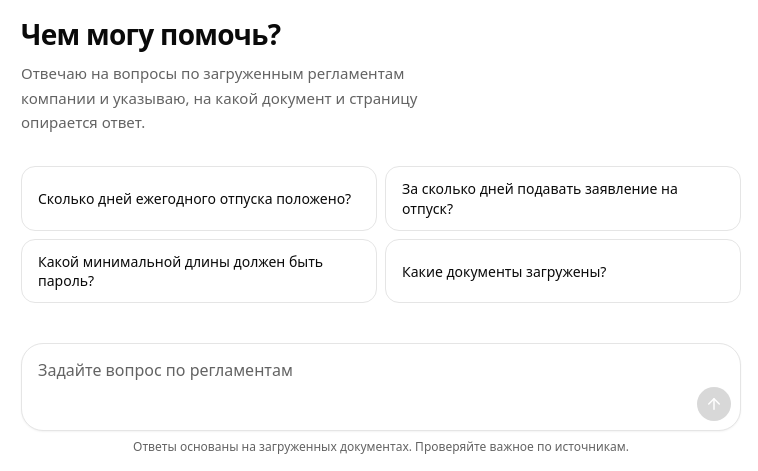
Test: Chat › replaces the streamed text with the final answer from the sources event
The image size is (758, 471).
Type "Сколько дней отпуска?" into the text box named "Сообщение".
click(381, 366); type("Сколько дней отпуска?")  # box [22, 344, 740, 386]
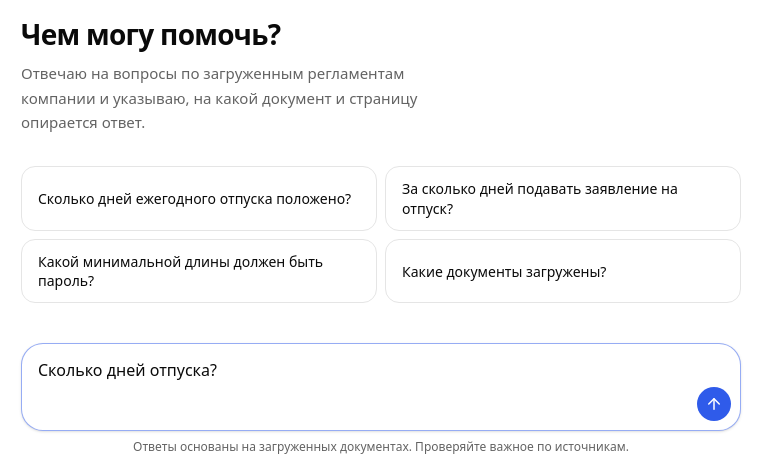
Press Enter
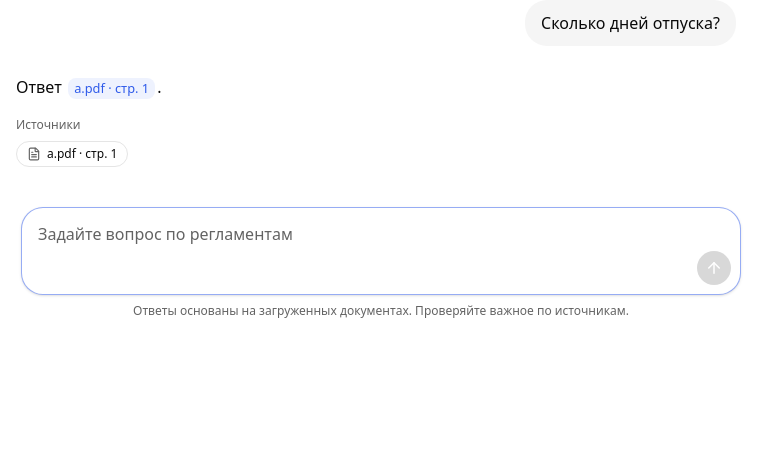
Expected: the text "Ответ a.pdf · стр. 1 ." is shown, [16, 76, 162, 99]
Expected: the 1st button "a.pdf · стр. 1" is shown, [68, 78, 155, 99]
